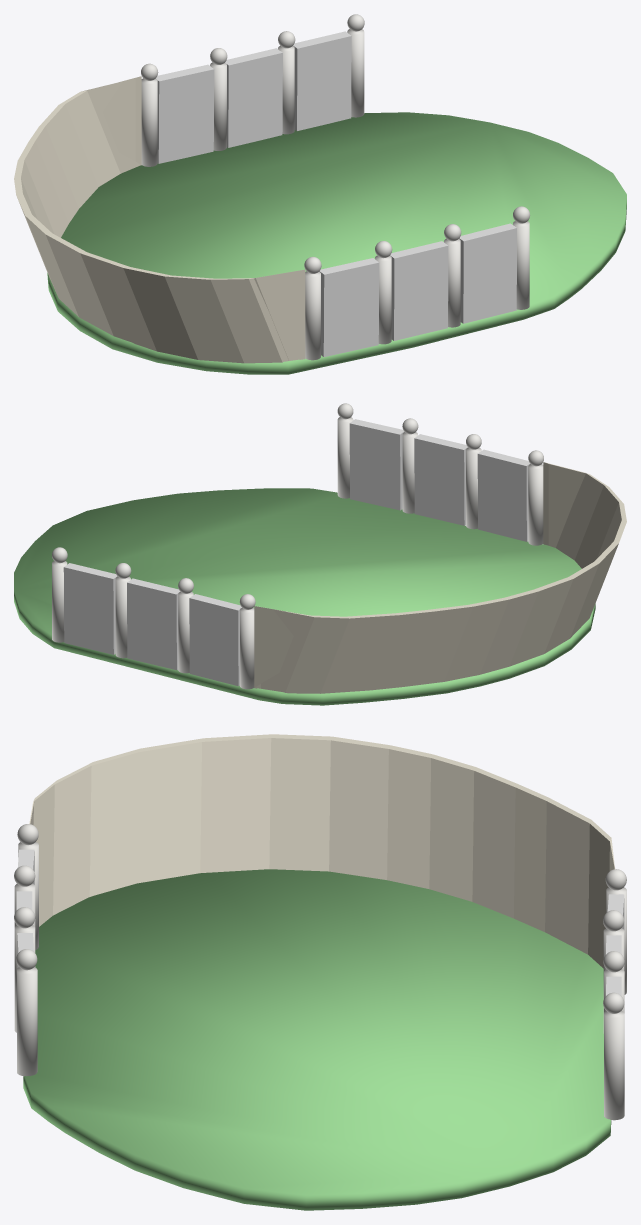
The model's file is 板球馆(1).fbx.
The picture shows the model from 3 angles, top to bottom: view 1: azimuth 30°, elevation 25°; view 2: azimuth 150°, elevation 25°; view 3: azimuth 270°, elevation 25°; orthographic projection. The views are drawn at different scales.
Parts seen in each view (by area): view 1: 板球场, 立方体, 立方体.002, 立方体.006, 立方体.001, 立方体.004, 立方体.003, 立方体.005, 柱体.006, 柱体, 柱体.011, 柱体.005 (+4 smaller); view 2: 板球场, 立方体, 立方体.003, 立方体.006, 立方体.001, 立方体.005, 立方体.002, 立方体.004, 柱体, 柱体.006, 柱体.005, 柱体.002 (+4 smaller); view 3: 板球场, 立方体, 柱体.011, 柱体.005, 柱体, 柱体.002, 柱体.006, 柱体.008, 柱体.001, 柱体.010.
Boxes of the visible parts, bbox=[...] form: 板球场: bbox=[47, 112, 626, 374]; 立方体: bbox=[14, 76, 305, 363]; 立方体.002: bbox=[319, 258, 379, 356]; 立方体.006: bbox=[293, 31, 351, 130]; 立方体.001: bbox=[390, 241, 448, 340]; 立方体.004: bbox=[156, 64, 214, 163]; 立方体.003: bbox=[459, 223, 516, 323]; 立方体.005: bbox=[225, 48, 282, 147]; 柱体.006: bbox=[141, 63, 158, 166]; 柱体: bbox=[304, 256, 321, 360]; 柱体.011: bbox=[347, 14, 364, 117]; 柱体.005: bbox=[513, 206, 530, 309]; 板球场: bbox=[14, 488, 595, 705]; 立方体: bbox=[254, 462, 626, 693]; 立方体.003: bbox=[349, 419, 404, 510]; 立方体.006: bbox=[63, 563, 117, 654]; 立方体.001: bbox=[414, 434, 467, 525]; 立方体.005: bbox=[127, 578, 180, 670]; 立方体.002: bbox=[477, 449, 530, 541]; 立方体.004: bbox=[189, 594, 241, 686]; 柱体: bbox=[528, 450, 543, 545]; 柱体.006: bbox=[239, 594, 255, 689]; 柱体.005: bbox=[337, 403, 353, 498]; 柱体.002: bbox=[402, 418, 418, 513]; 板球场: bbox=[23, 869, 611, 1210]; 立方体: bbox=[29, 734, 615, 968]; 柱体.011: bbox=[603, 992, 624, 1120]; 柱体.005: bbox=[16, 949, 37, 1076]; 柱体: bbox=[17, 824, 38, 949]; 柱体.002: bbox=[14, 907, 35, 1032]; 柱体.006: bbox=[605, 869, 626, 994]; 柱体.008: bbox=[603, 910, 624, 1033]; 柱体.001: bbox=[14, 865, 35, 926]; 柱体.010: bbox=[603, 951, 624, 1013].
Size of the model in its own units: 1186 by 222 by 879.
